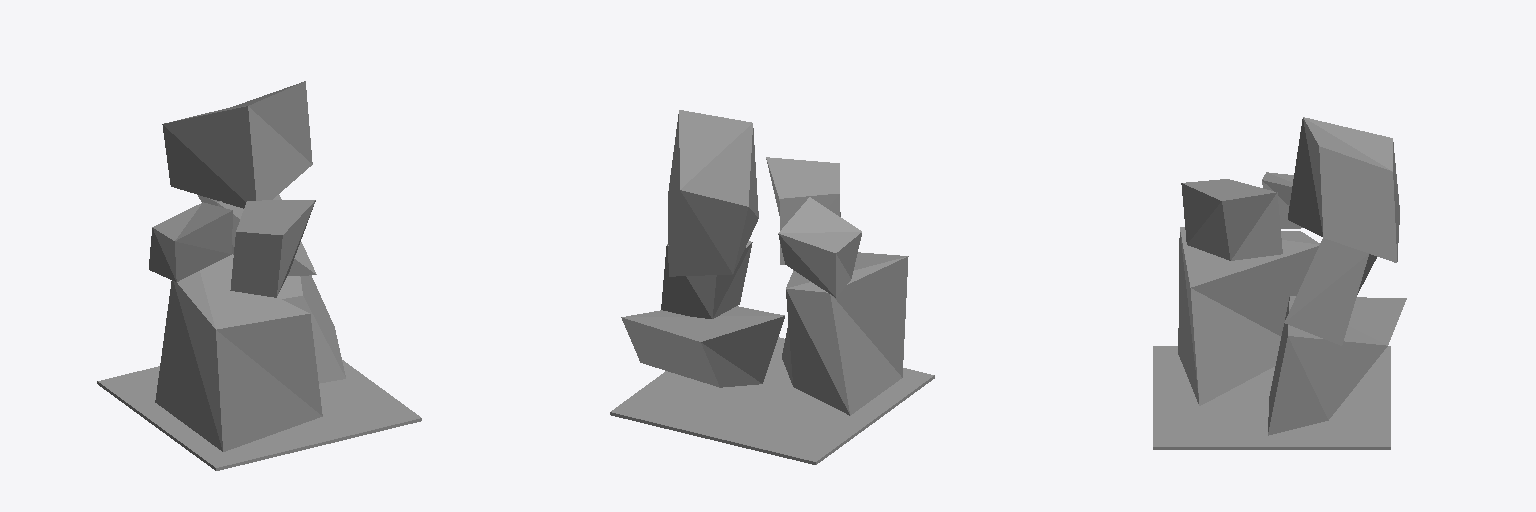
Rendered from pather_NO_6_TEX_1.obj.
3 views of the same model, side by side, from view 1: azimuth 30°, elevation 25°; view 2: azimuth 150°, elevation 25°; view 3: azimuth 270°, elevation 25° (orthographic).
Visible parts, largest first — view 1: Cube.004_Cube, Cube.005_Cube.006, Cube.006_Cube.005, Cube_Cube.004, Cube.002, Cube.001, Cube.003; view 2: Cube.006_Cube.005, Cube.004_Cube, Cube.005_Cube.006, Cube.001, Cube.002, Cube.003, Cube_Cube.004; view 3: Cube.004_Cube, Cube.006_Cube.005, Cube.005_Cube.006, Cube.001, Cube_Cube.004, Cube.003, Cube.002.
Part boxes in pixels (left/top/right/bottom): Cube.004_Cube: left=155, top=265, right=322, bottom=451; Cube.005_Cube.006: left=162, top=81, right=312, bottom=208; Cube.006_Cube.005: left=97, top=360, right=421, bottom=470; Cube_Cube.004: left=230, top=200, right=315, bottom=297; Cube.002: left=149, top=202, right=232, bottom=281; Cube.001: left=212, top=254, right=345, bottom=383; Cube.003: left=198, top=195, right=316, bottom=275; Cube.006_Cube.005: left=610, top=337, right=934, bottom=464; Cube.004_Cube: left=782, top=252, right=908, bottom=415; Cube.005_Cube.006: left=668, top=110, right=758, bottom=276; Cube.001: left=621, top=306, right=784, bottom=387; Cube.002: left=778, top=197, right=861, bottom=297; Cube.003: left=661, top=241, right=752, bottom=318; Cube_Cube.004: left=766, top=157, right=840, bottom=264; Cube.004_Cube: left=1178, top=227, right=1319, bottom=405; Cube.006_Cube.005: left=1153, top=346, right=1390, bottom=449; Cube.005_Cube.006: left=1288, top=117, right=1399, bottom=262; Cube.001: left=1268, top=296, right=1406, bottom=435; Cube_Cube.004: left=1181, top=179, right=1282, bottom=260; Cube.003: left=1284, top=238, right=1376, bottom=345; Cube.002: left=1262, top=172, right=1302, bottom=228.
Size of the model in its own units: 0.5637 by 0.7504 by 0.6006.